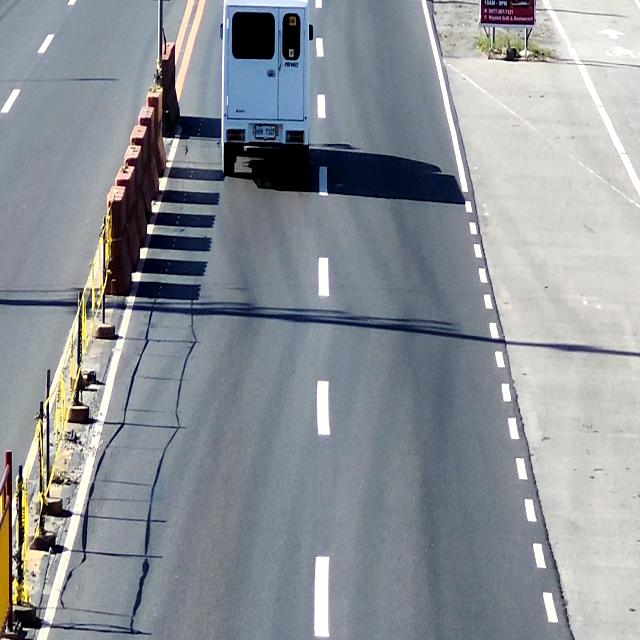Car: (218, 0, 312, 180)
License-Plate: (252, 123, 280, 146)
